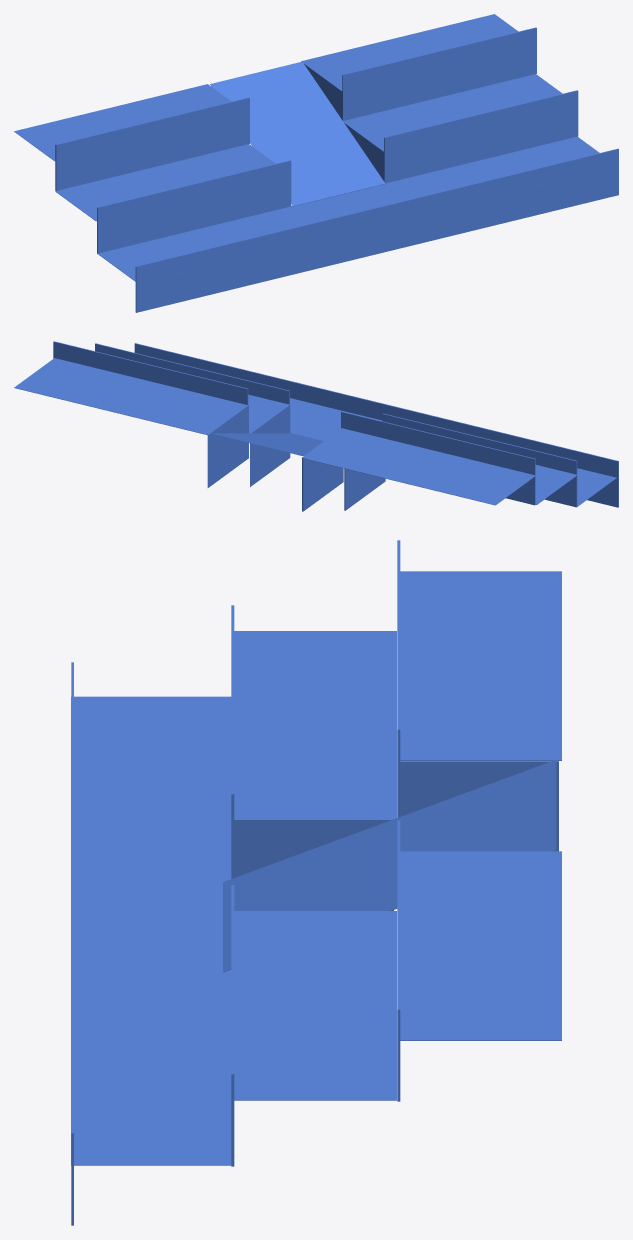
The model's file is 観客席.fbx.
3 views of the same model, one above another, from view 1: azimuth 30°, elevation 25°; view 2: azimuth 150°, elevation 25°; view 3: azimuth 270°, elevation 25° (orthographic). The views are drawn at different scales.
Visible parts, largest first — view 1: 立方体.002; view 2: 立方体.002; view 3: 立方体.002.
Boxes of the visible parts, x1,y1,x2,y2 form: 立方体.002: (14,14,618,312); 立方体.002: (14,341,618,511); 立方体.002: (71,540,561,1225).
Bounding box in the file's own units: 1896 × 404 × 835.
